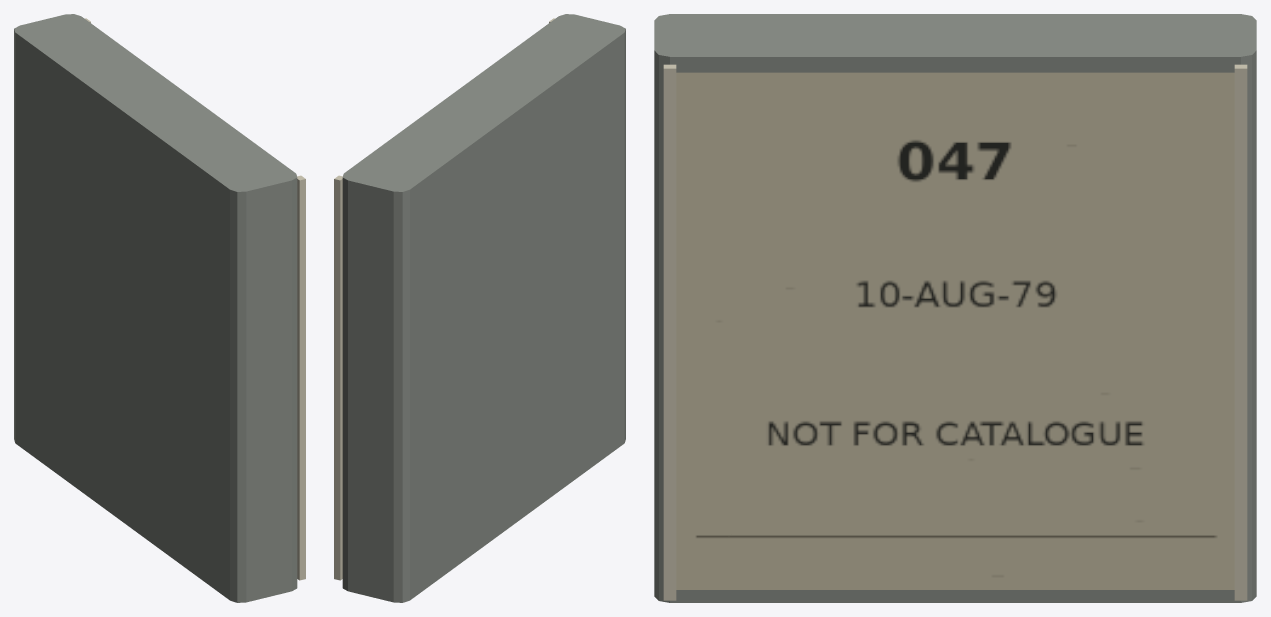
File: SM_ArchiveProps_Reel047Box_LOD1.glb
3 views of the same model, side by side, from view 1: azimuth 30°, elevation 25°; view 2: azimuth 150°, elevation 25°; view 3: azimuth 270°, elevation 25° (orthographic). The views are drawn at different scales.
Visible parts, largest first — view 1: SM_ArchiveProps_Reel047Box_LOD1; view 2: SM_ArchiveProps_Reel047Box_LOD1; view 3: SM_ArchiveProps_Reel047Box_LOD1.
Boxes of the visible parts, <box> form: SM_ArchiveProps_Reel047Box_LOD1: <box>14,14,305,602</box>; SM_ArchiveProps_Reel047Box_LOD1: <box>334,14,625,602</box>; SM_ArchiveProps_Reel047Box_LOD1: <box>654,14,1256,602</box>.
Size of the model in its own units: 0.0355 by 0.19 by 0.19.
Materials: 3 (1 with a texture image).
